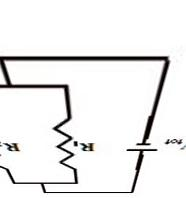resistor: (43, 111, 74, 171)
